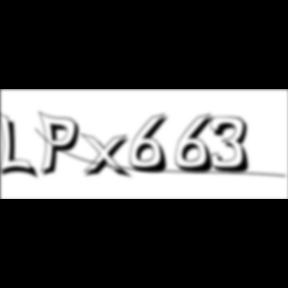3: (210, 116, 256, 176)
6: (130, 112, 174, 176), (176, 112, 220, 176)
L: (0, 110, 40, 182)
P: (39, 110, 86, 180)
x: (80, 132, 136, 181)
